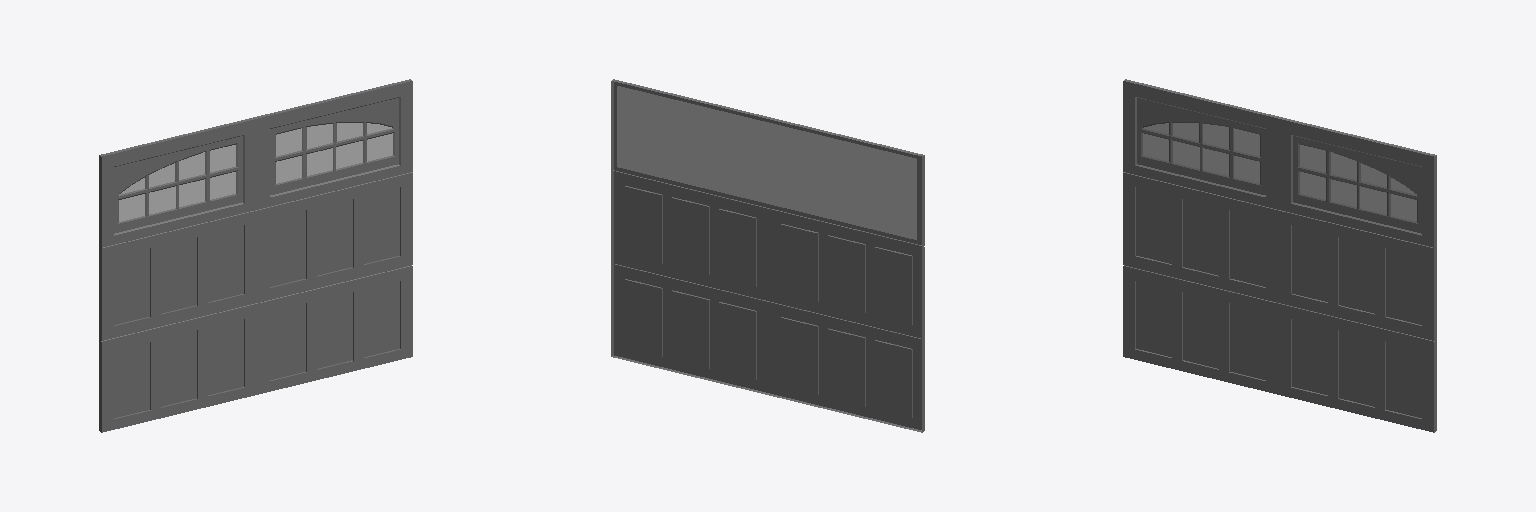
File: Carrige_Style_OBJ.obj
The picture shows the model from 3 angles: view 1: azimuth 30°, elevation 25°; view 2: azimuth 150°, elevation 25°; view 3: azimuth 330°, elevation 25°; orthographic projection.
Parts seen in each view (by area): view 1: Door.003, Insets.001, Window_Plane; view 2: Door.003, Insets.001, Window_Plane; view 3: Door.003, Insets.001, Window_Plane.
Boxes of the visible parts, box(x1,y1,x2,y2) form: Door.003: box(99, 79, 412, 432); Insets.001: box(114, 188, 399, 417); Window_Plane: box(119, 123, 392, 221); Door.003: box(611, 79, 924, 432); Insets.001: box(625, 187, 911, 418); Window_Plane: box(617, 86, 916, 239); Door.003: box(1123, 79, 1436, 432); Insets.001: box(1136, 188, 1421, 417); Window_Plane: box(1143, 123, 1416, 221).
Size of the model in its own units: 2.51 by 2.13 by 0.0318.